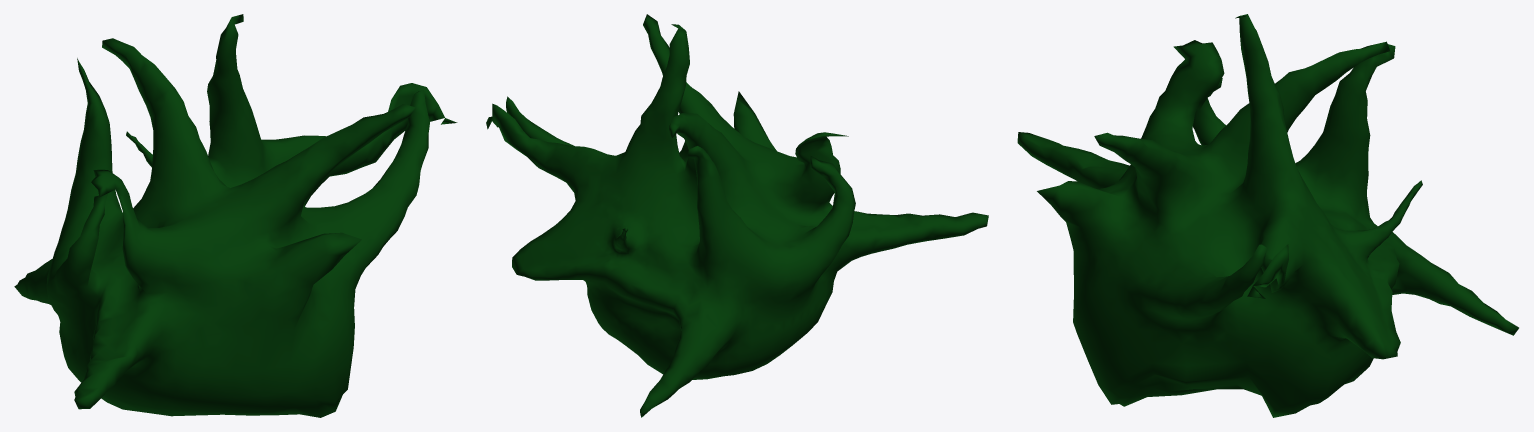
File: jump_cthulhu_0014.obj
3 views of the same model, side by side, from view 1: azimuth 30°, elevation 25°; view 2: azimuth 150°, elevation 25°; view 3: azimuth 270°, elevation 25° (orthographic). The views are drawn at different scales.
Visible parts, largest first — view 1: Cube; view 2: Cube; view 3: Cube.
Part boxes in pixels (box(x1,y1,x2,y2)): Cube: box(14, 14, 457, 417); Cube: box(486, 14, 988, 417); Cube: box(1017, 14, 1518, 417).
Size of the model in its own units: 1.27 by 0.9244 by 1.08.
